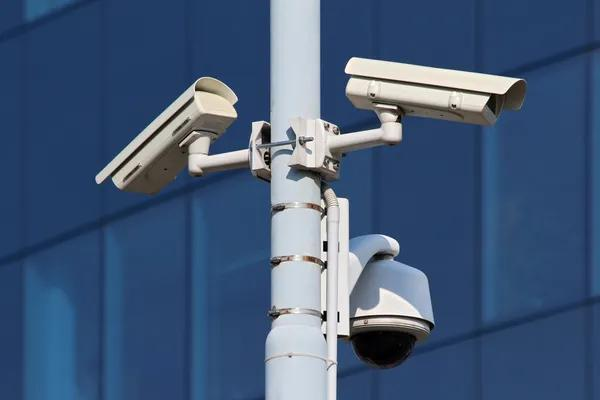camera: (52, 52, 249, 204), (333, 35, 538, 173), (343, 224, 449, 387)
